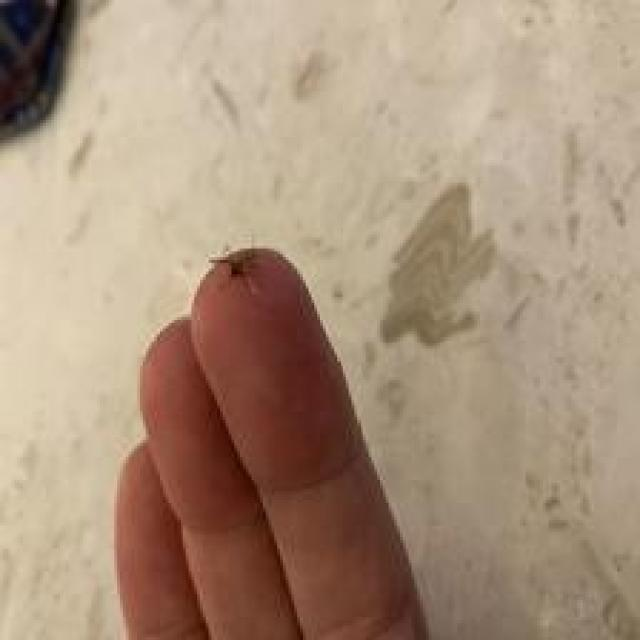Culex: (0, 0, 77, 151)
